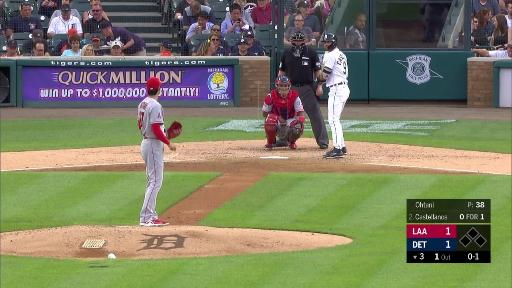pitcher: (138, 77, 183, 226)
